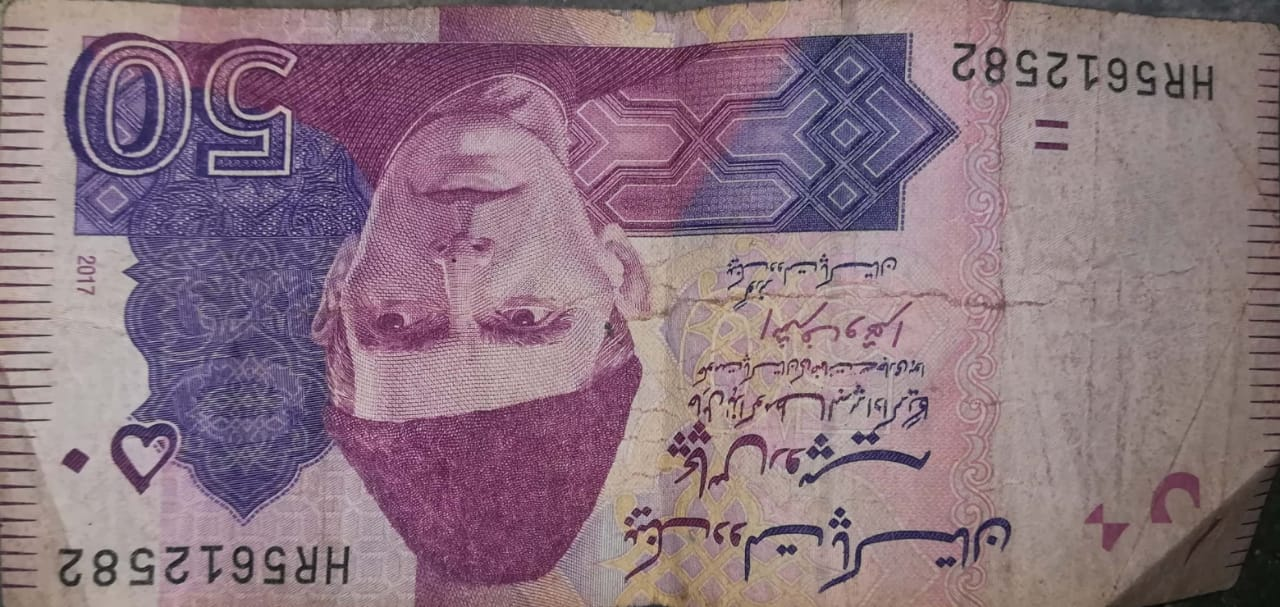50 rupee: (6, 9, 1274, 600)
